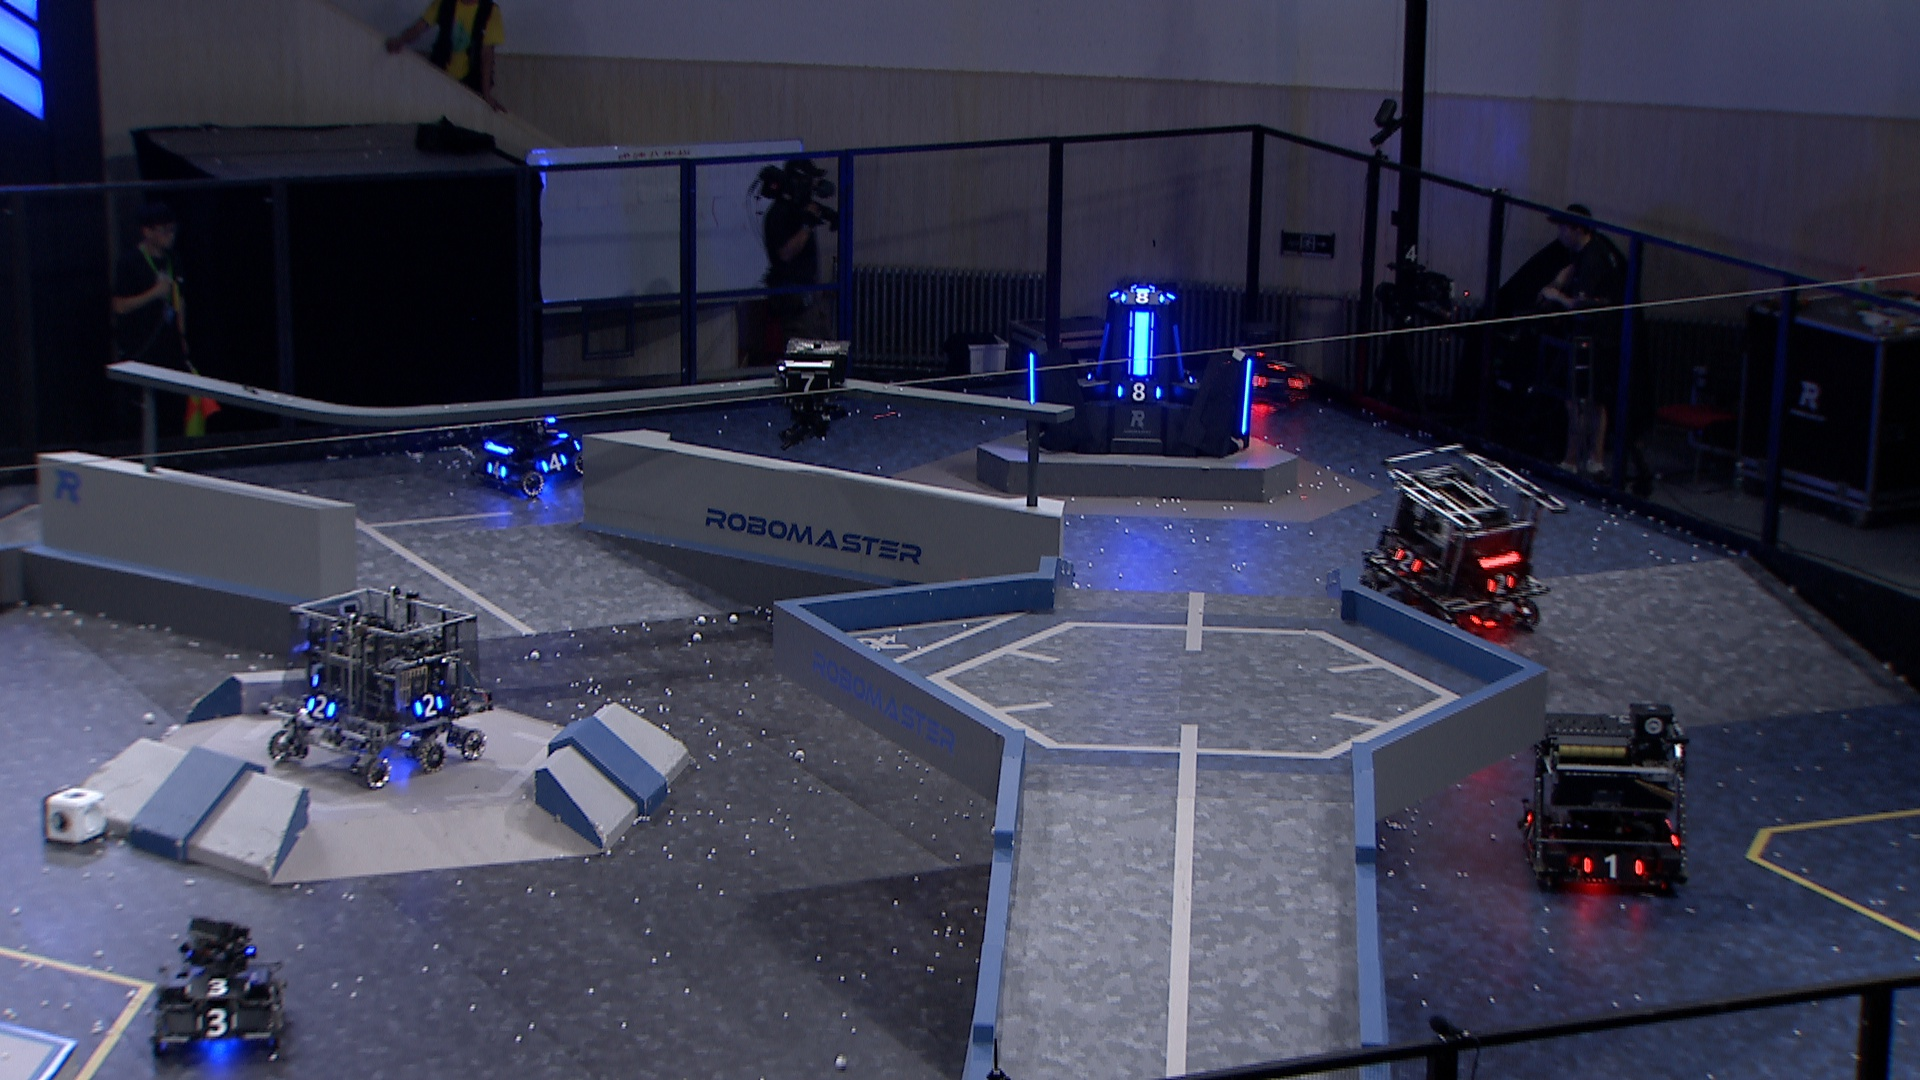armor: (1129, 309, 1154, 378), (1580, 853, 1644, 880), (185, 975, 255, 998), (193, 1007, 243, 1040), (1237, 357, 1257, 436), (1168, 322, 1191, 385), (1092, 316, 1114, 380), (1116, 380, 1166, 405), (781, 372, 833, 394), (410, 690, 444, 721), (1390, 546, 1425, 576), (302, 692, 338, 723), (1120, 286, 1167, 306), (1481, 568, 1516, 595), (1026, 349, 1040, 405), (538, 450, 568, 475), (1522, 811, 1538, 847), (483, 460, 509, 480), (539, 425, 567, 442)
base: (1021, 281, 1263, 460)
car: (264, 582, 495, 793), (1358, 439, 1569, 642), (1513, 699, 1695, 897), (145, 915, 291, 1064), (467, 405, 595, 498), (1212, 334, 1313, 419)
watcher: (775, 334, 855, 451)
